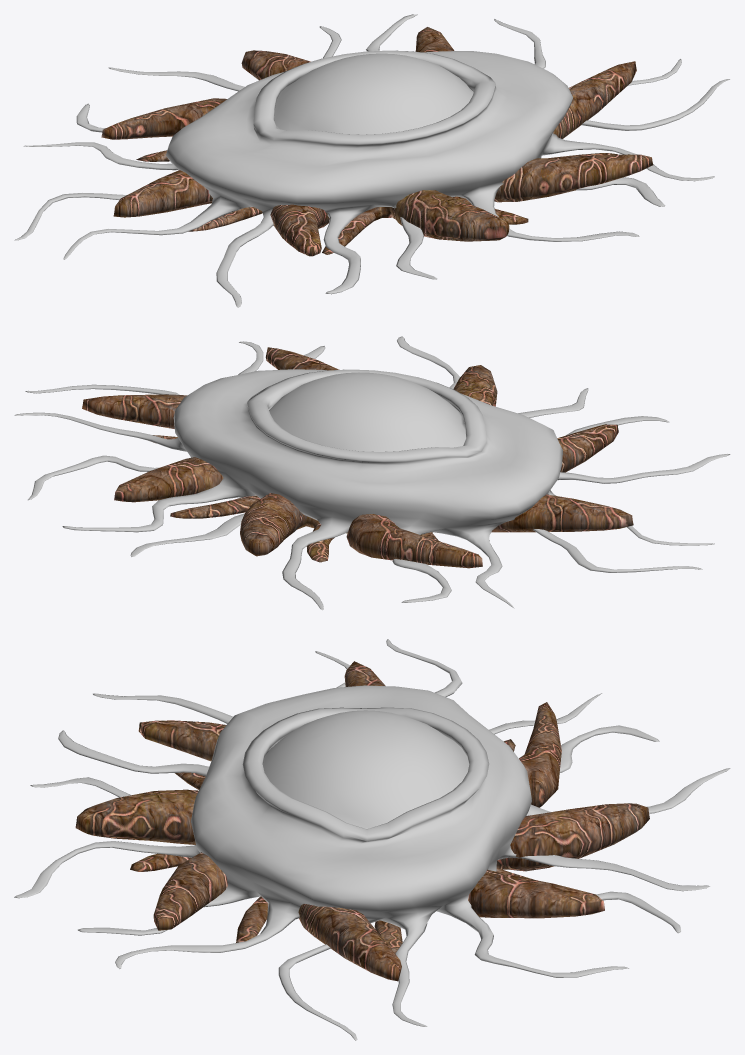
The model's file is NatureEyeLightBody.fbx.
3 views of the same model, one above another, from view 1: azimuth 30°, elevation 25°; view 2: azimuth 150°, elevation 25°; view 3: azimuth 270°, elevation 25° (orthographic). The views are drawn at different scales.
Parts seen in each view (by area): view 1: NatureLight; view 2: NatureLight; view 3: NatureLight.
Part boxes in pixels (x1,y1,x2,y2): NatureLight: (14, 14, 729, 307); NatureLight: (14, 336, 730, 610); NatureLight: (14, 639, 730, 1040).
Bounding box in the file's own units: 245 × 35.82 × 185.
